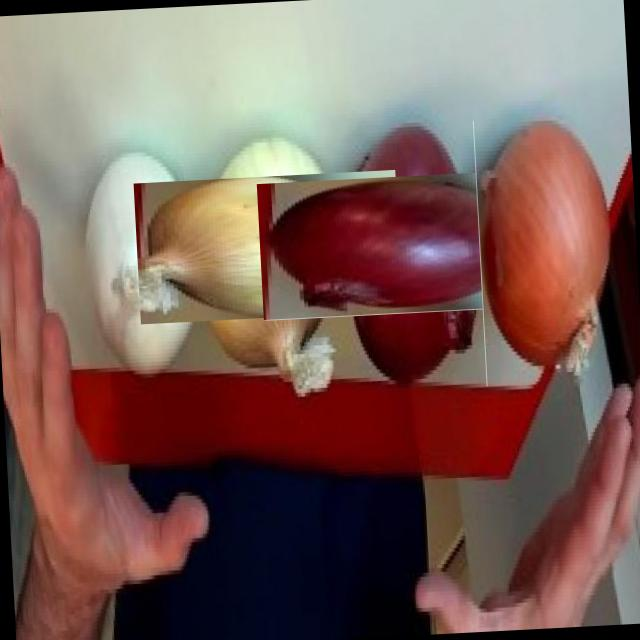Onion: (295, 130, 524, 359), (162, 141, 374, 354), (472, 113, 626, 386), (66, 138, 205, 384)
